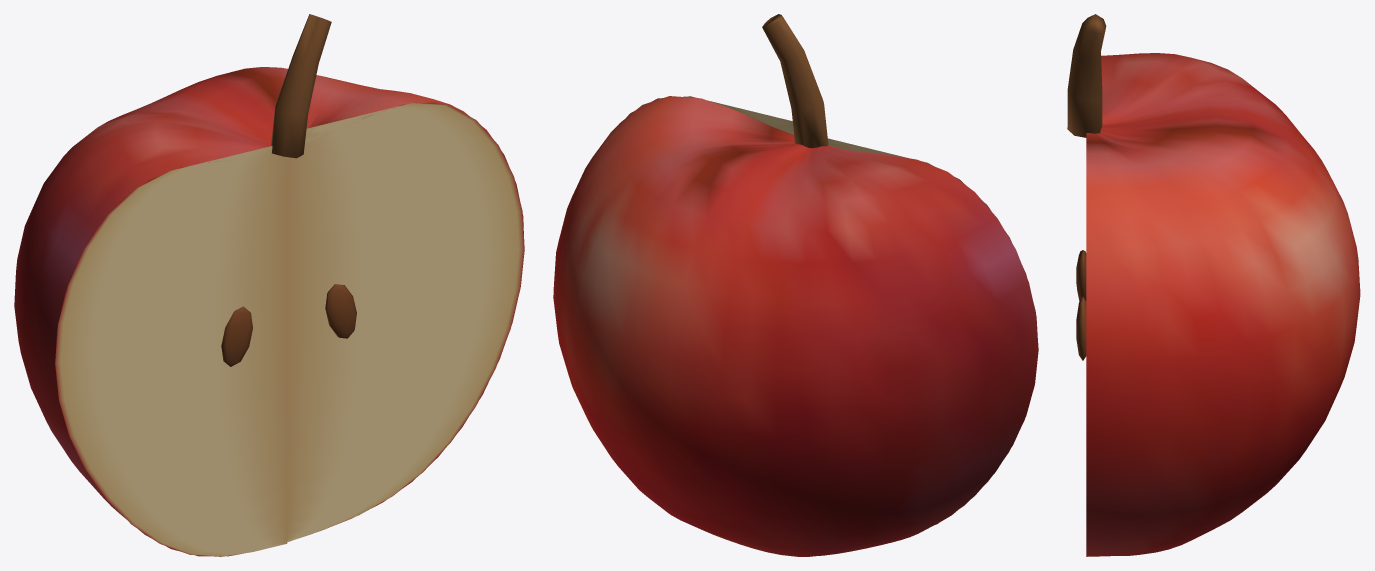
File: apple_half.glb
The picture shows the model from 3 angles, left to right: view 1: azimuth 30°, elevation 25°; view 2: azimuth 150°, elevation 25°; view 3: azimuth 270°, elevation 25°; orthographic projection. The views are drawn at different scales.
Parts seen in each view (by area): view 1: Plant; view 2: Plant; view 3: Plant.
Boxes of the visible parts, x1=… form: Plant: x1=14, y1=14, x2=524, y2=556; Plant: x1=553, y1=14, x2=1038, y2=556; Plant: x1=1067, y1=14, x2=1360, y2=556.
Size of the model in its own units: 0.3156 by 0.3335 by 0.1683.
